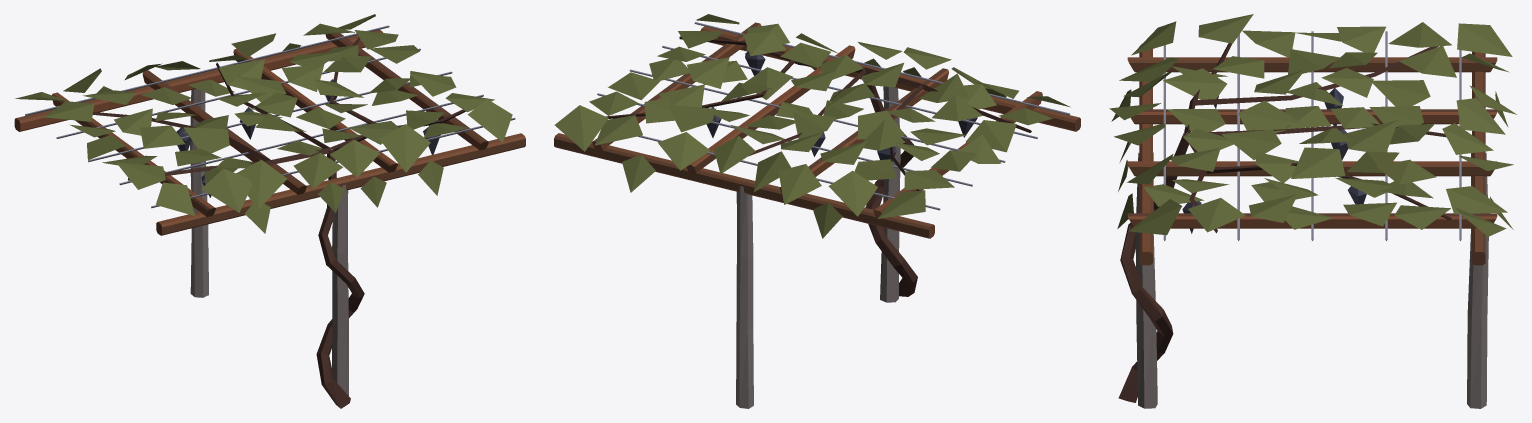
File: parrot-run.glb
The picture shows the model from 3 angles, left to right: view 1: azimuth 30°, elevation 25°; view 2: azimuth 150°, elevation 25°; view 3: azimuth 270°, elevation 25°; orthographic projection. The views are drawn at different scales.
Parts seen in each view (by area): view 1: frame, growth-a, growth-d, growth-c, growth-e, growth-b, growth-drapeF; view 2: frame, growth-d, growth-e, growth-c, growth-a, growth-b, growth-drapeB; view 3: frame, growth-e, growth-d, growth-c, growth-a, growth-b, growth-drapeF.
Boxes of the visible parts, x1,y1,x2,y2 form: frame: (14, 25, 525, 408); growth-a: (87, 134, 379, 215); growth-d: (282, 14, 430, 172); growth-c: (15, 68, 229, 153); growth-e: (124, 33, 345, 139); growth-b: (322, 71, 512, 154); growth-drapeF: (244, 160, 443, 233); frame: (554, 22, 1080, 408); growth-d: (554, 33, 837, 151); growth-e: (657, 70, 874, 204); growth-c: (820, 108, 976, 218); growth-a: (858, 42, 1070, 163); growth-b: (649, 14, 863, 80); growth-drapeB: (622, 154, 842, 238); frame: (1118, 31, 1497, 408); growth-e: (1221, 85, 1516, 171); growth-d: (1127, 147, 1507, 236); growth-c: (1254, 22, 1512, 125); growth-a: (1109, 14, 1341, 145); growth-b: (1128, 128, 1333, 235); growth-drapeF: (1111, 89, 1133, 228).
Bounding box in the file's own units: 4 × 2.63 × 3.32.
